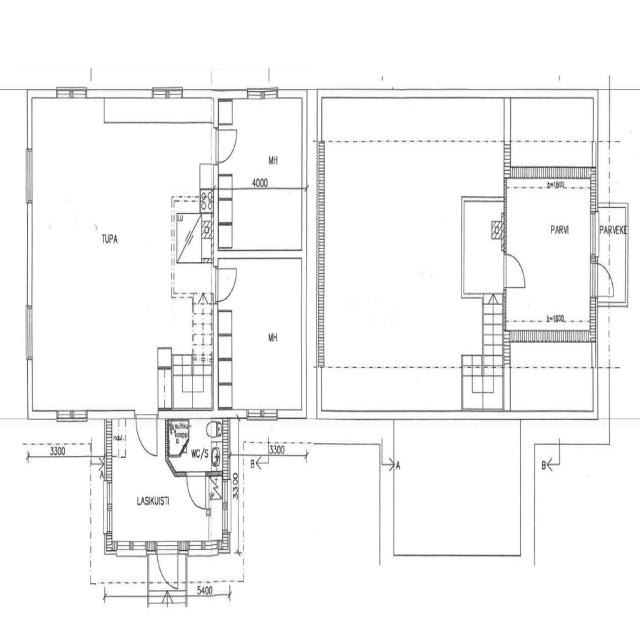door: (134, 408, 160, 461), (154, 538, 180, 588), (501, 248, 529, 292), (590, 258, 616, 302), (213, 126, 240, 166), (185, 471, 210, 513), (214, 263, 239, 304)
window: (22, 298, 36, 367), (21, 142, 36, 205), (53, 403, 91, 427), (102, 477, 115, 538), (111, 537, 149, 557), (244, 404, 280, 425), (55, 83, 88, 104), (588, 206, 599, 265), (152, 83, 184, 103), (245, 86, 277, 103)
zone: (320, 93, 502, 412), (28, 106, 196, 418), (216, 94, 304, 256), (504, 183, 596, 335), (216, 257, 304, 413), (462, 196, 505, 297), (166, 416, 224, 476), (174, 209, 213, 271)
